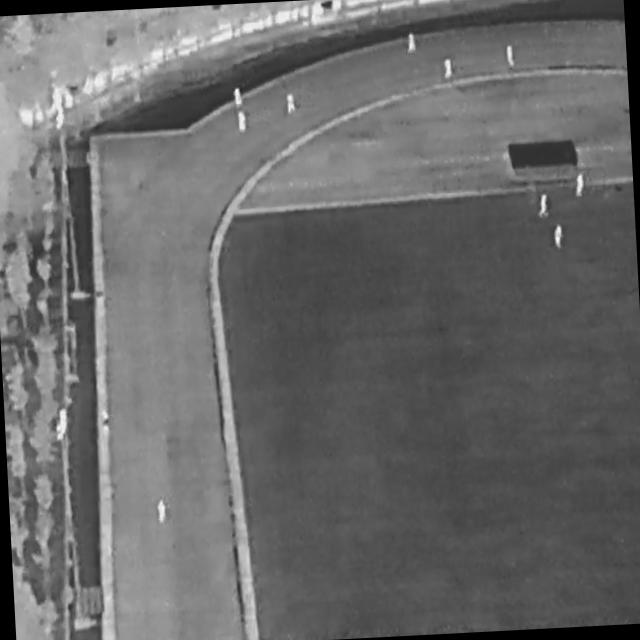person: (539, 194, 551, 220), (233, 88, 244, 112), (555, 225, 565, 251), (238, 110, 248, 134), (159, 500, 168, 526), (577, 175, 586, 199), (407, 34, 417, 55), (287, 92, 296, 115), (507, 45, 516, 68), (445, 58, 454, 81), (104, 410, 111, 438)
